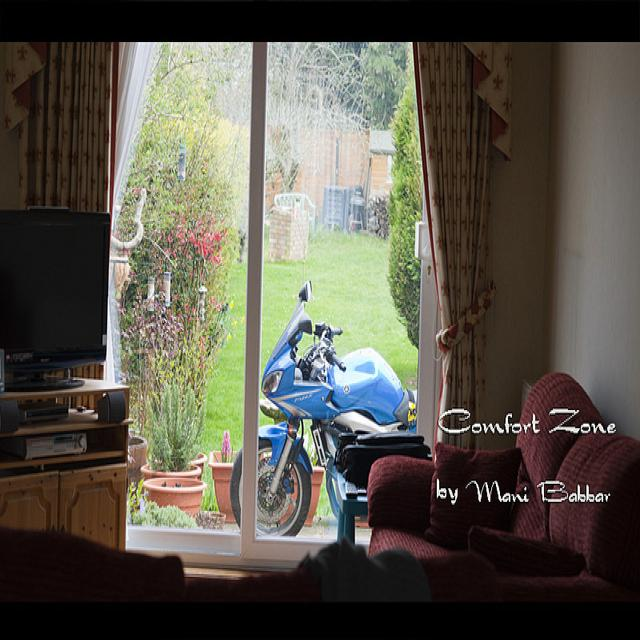motor: (231, 278, 418, 542)
